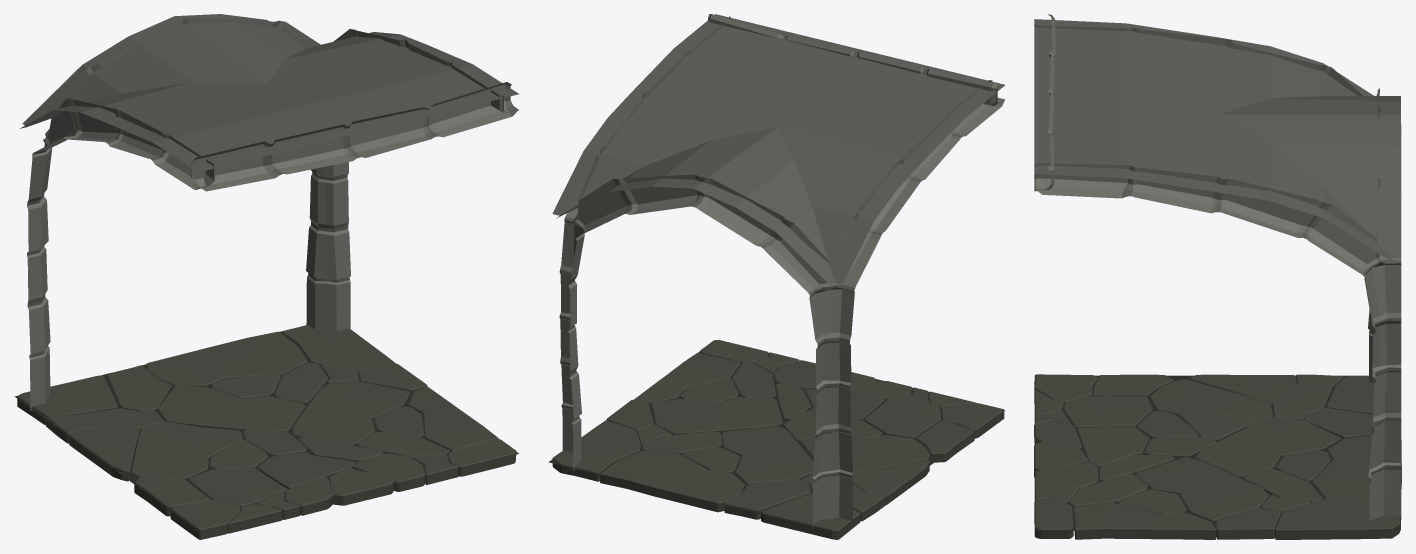
File: Dungeon_Custom_Border_Arched.glb
3 views of the same model, side by side, from view 1: azimuth 30°, elevation 25°; view 2: azimuth 150°, elevation 25°; view 3: azimuth 270°, elevation 25° (orthographic). The views are drawn at different scales.
Visible parts, largest first — view 1: Dungeon_Custom_Border_Arched.001; view 2: Dungeon_Custom_Border_Arched.001; view 3: Dungeon_Custom_Border_Arched.001.
Boxes of the visible parts, left/top/right/bottom form: Dungeon_Custom_Border_Arched.001: left=14, top=14, right=519, bottom=539; Dungeon_Custom_Border_Arched.001: left=548, top=14, right=1005, bottom=539; Dungeon_Custom_Border_Arched.001: left=1034, top=14, right=1401, bottom=539.
Size of the model in its own units: 4.01 by 4.49 by 4.01.
Materials: 2 (2 with a texture image).
